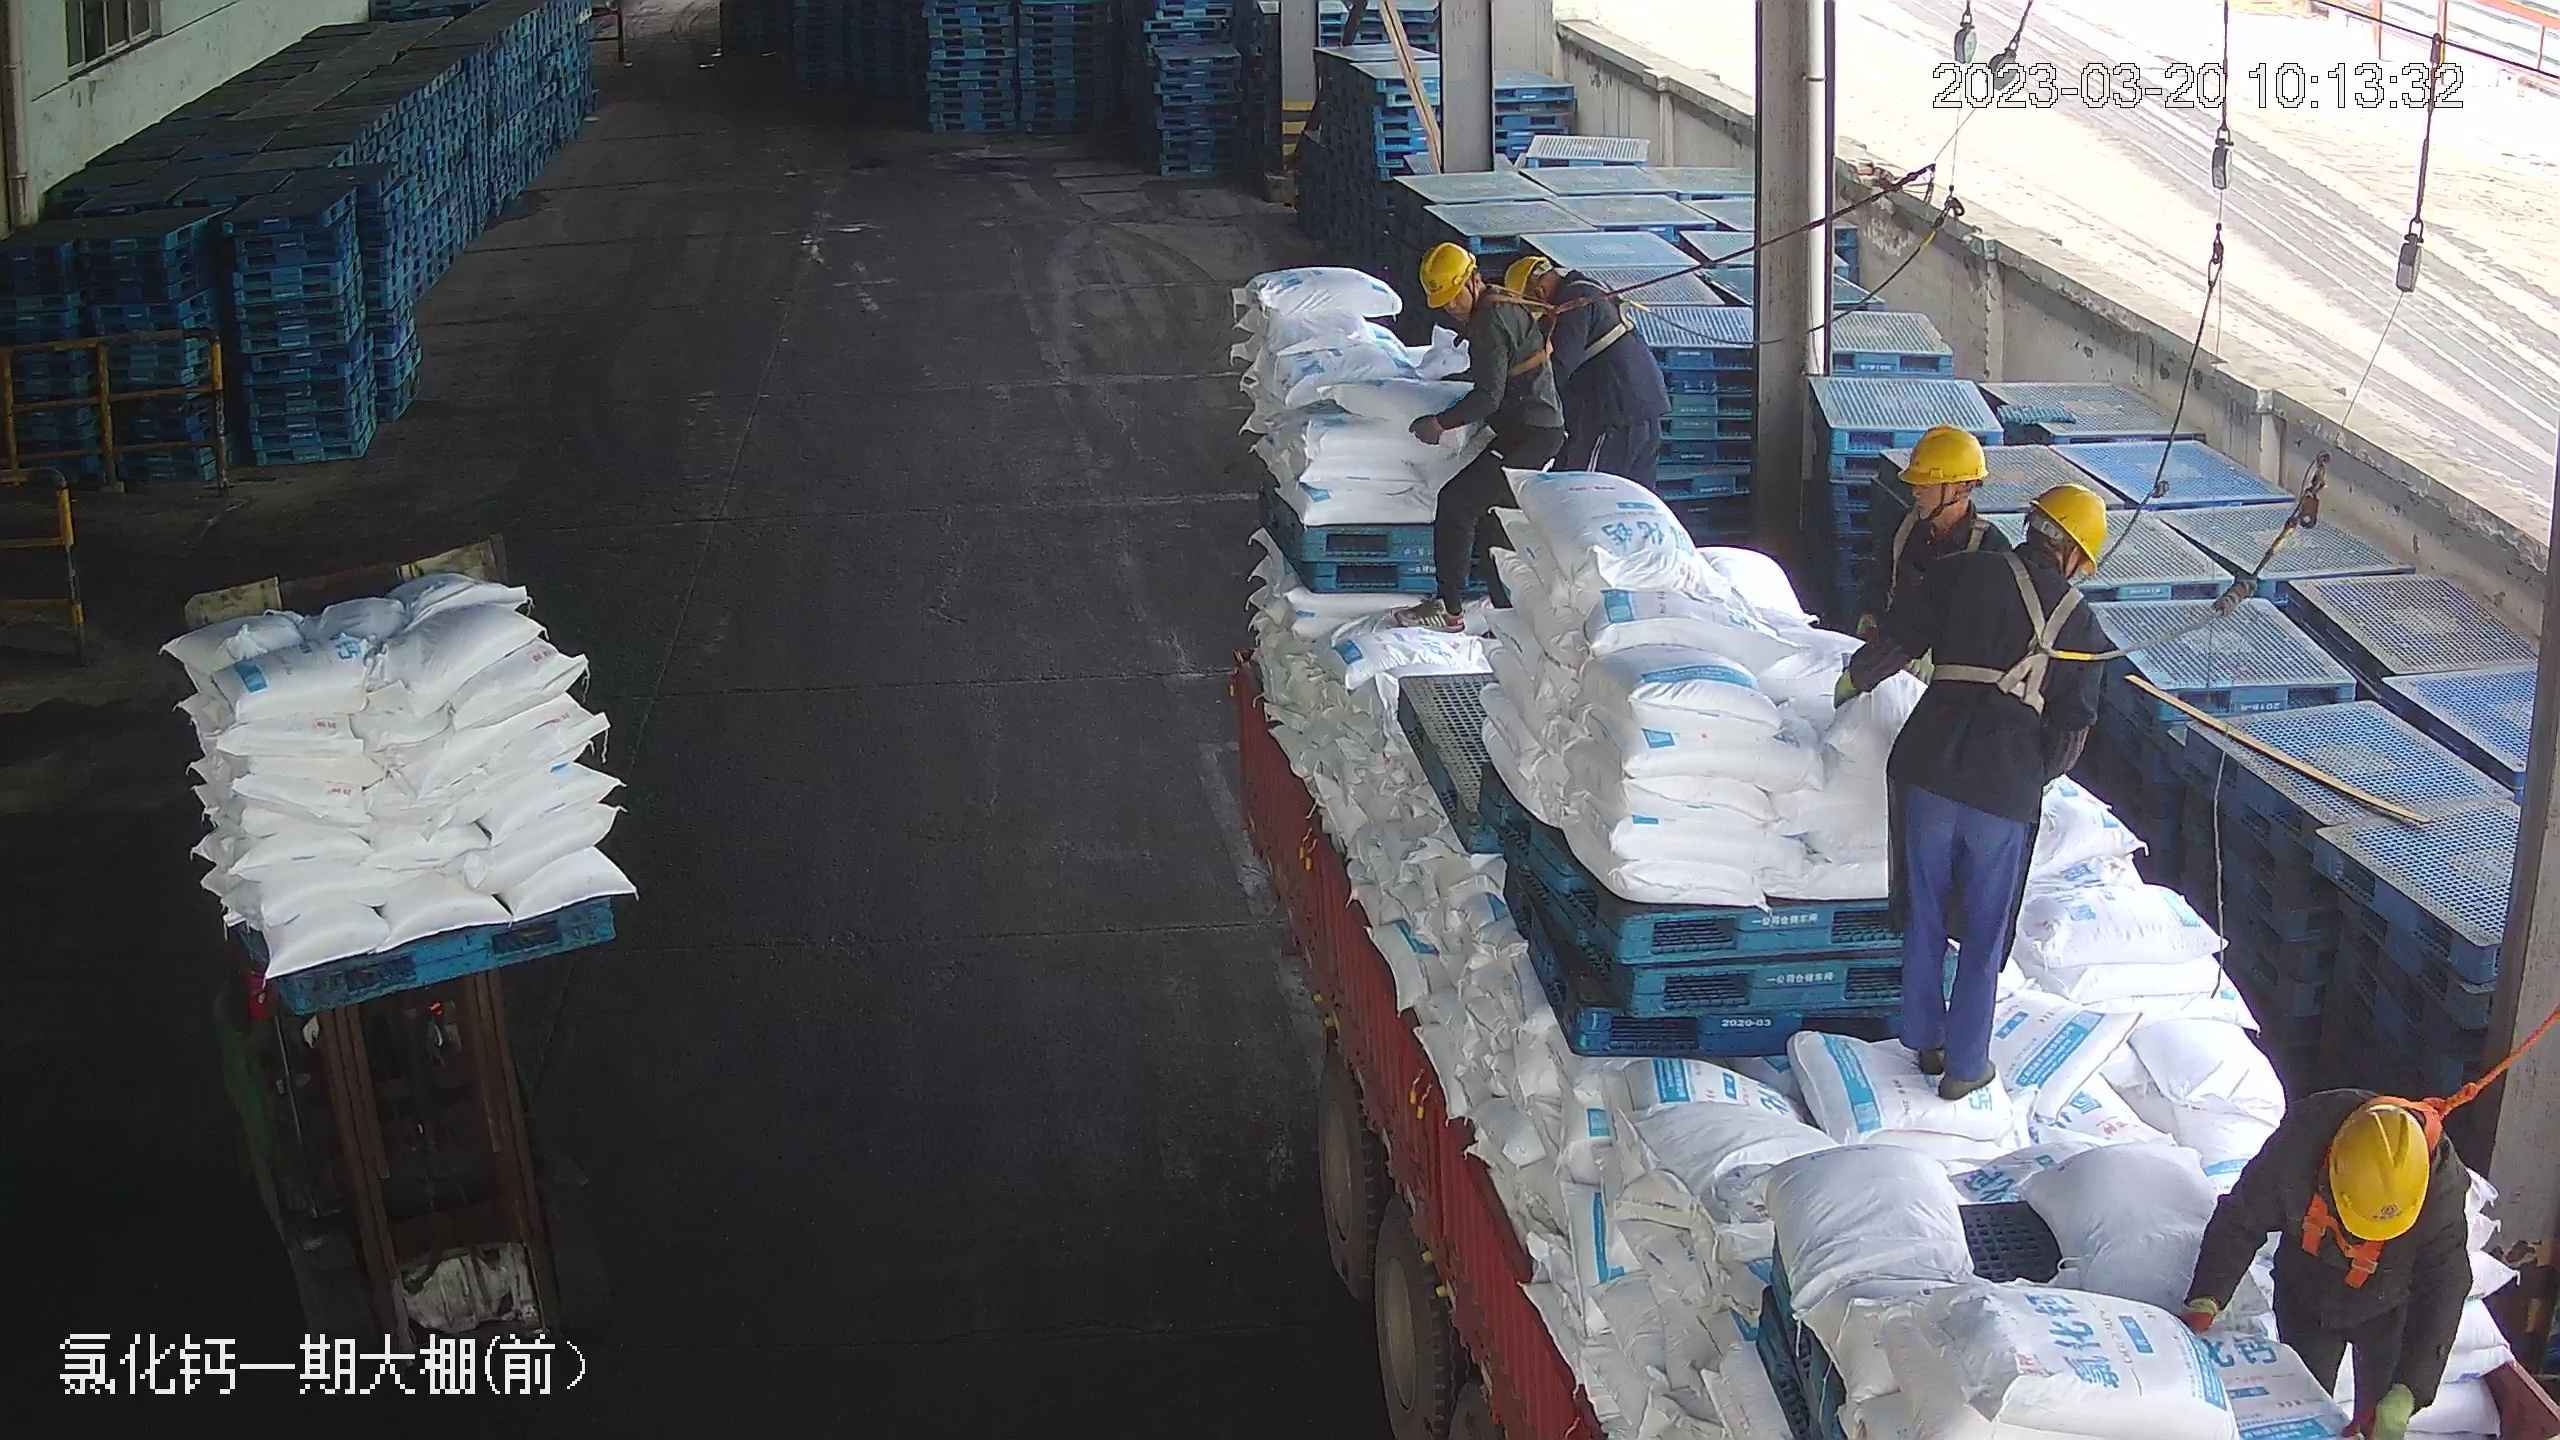belt: (2298, 1097, 2447, 1280), (1945, 551, 2105, 711), (1470, 290, 1563, 378), (1551, 273, 1643, 357), (1900, 507, 1999, 567)
head: (2272, 1093, 2453, 1261), (1953, 472, 2112, 637), (1876, 422, 2014, 573), (1427, 245, 1552, 343), (1502, 250, 1627, 337)
helmet: (2322, 1098, 2432, 1240), (2026, 480, 2107, 569), (1895, 421, 1990, 485), (1418, 239, 1478, 306), (1499, 251, 1555, 306)
people: (1832, 453, 2101, 1102), (2179, 1092, 2471, 1437), (1401, 247, 1565, 632), (1508, 245, 1673, 487)
truck: (1225, 209, 2421, 1437)
